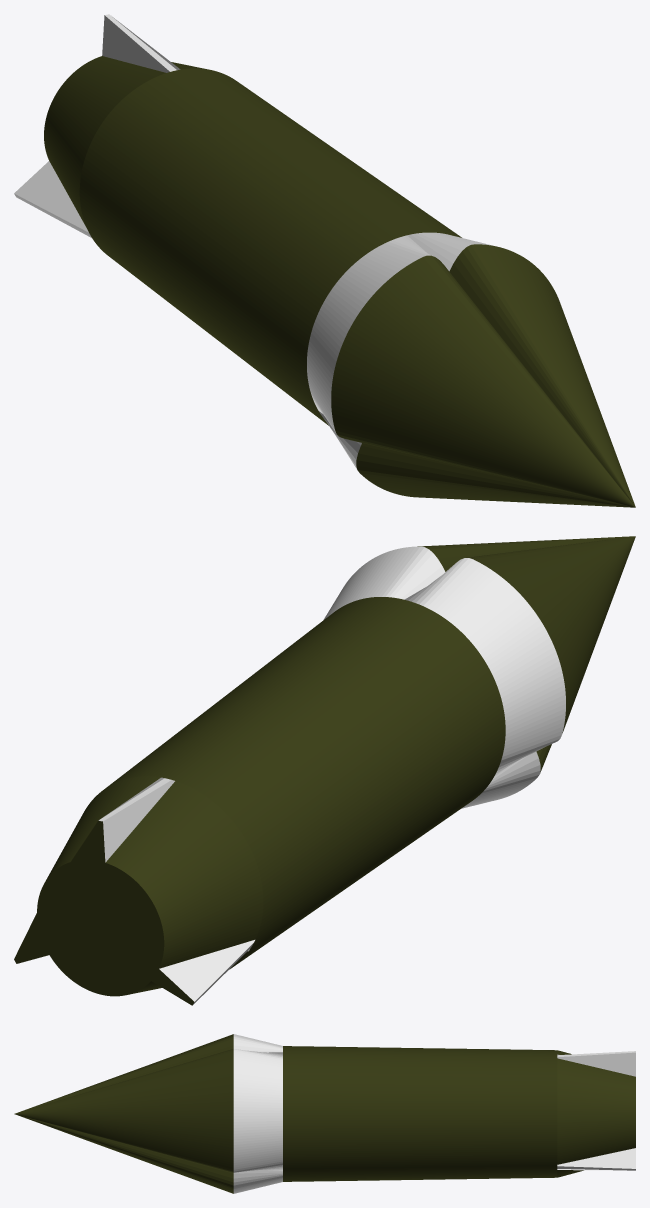
File: Missile.fbx
The picture shows the model from 3 angles, top to bottom: view 1: azimuth 30°, elevation 25°; view 2: azimuth 150°, elevation 25°; view 3: azimuth 270°, elevation 25°; orthographic projection. The views are drawn at different scales.
Visible parts, largest first — view 1: Cylinder; view 2: Cylinder; view 3: Cylinder.
Part boxes in pixels (<box>): Cylinder: <box>14,14,635,507</box>; Cylinder: <box>14,536,635,1005</box>; Cylinder: <box>14,1034,635,1193</box>.
Size of the model in its own units: 200 by 198 by 778.
